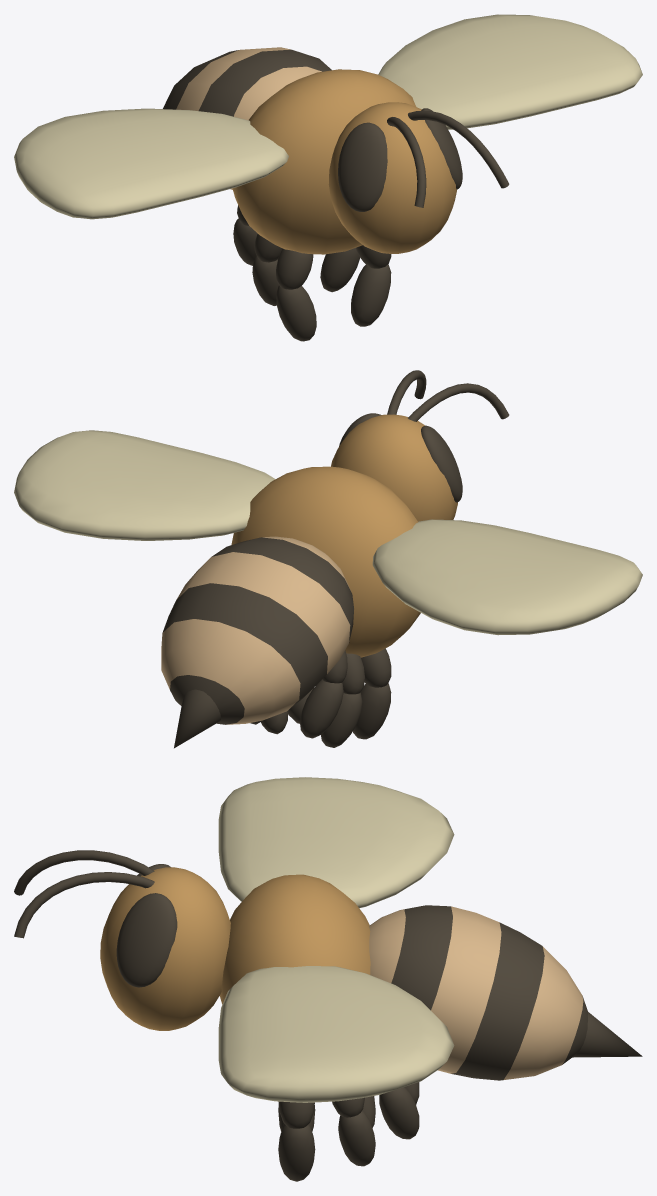
The model's file is Wasp.fbx.
3 renders of one model, top to bottom at view 1: azimuth 30°, elevation 25°; view 2: azimuth 150°, elevation 25°; view 3: azimuth 270°, elevation 25°, orthographic. The views are drawn at different scales.
Parts seen in each view (by area): view 1: Wasp, Wasp.001, Wasp.002; view 2: Wasp, Wasp.001, Wasp.002; view 3: Wasp, Wasp.002, Wasp.001.
Part boxes in pixels (x1,y1,x2,y2): Wasp: [163, 47, 509, 341]; Wasp.001: [14, 108, 288, 219]; Wasp.002: [378, 14, 642, 129]; Wasp: [161, 370, 509, 748]; Wasp.001: [372, 519, 642, 635]; Wasp.002: [14, 430, 275, 540]; Wasp: [14, 850, 642, 1181]; Wasp.002: [218, 966, 454, 1102]; Wasp.001: [218, 777, 454, 908].
Size of the model in its own units: 873 by 396 by 747.
